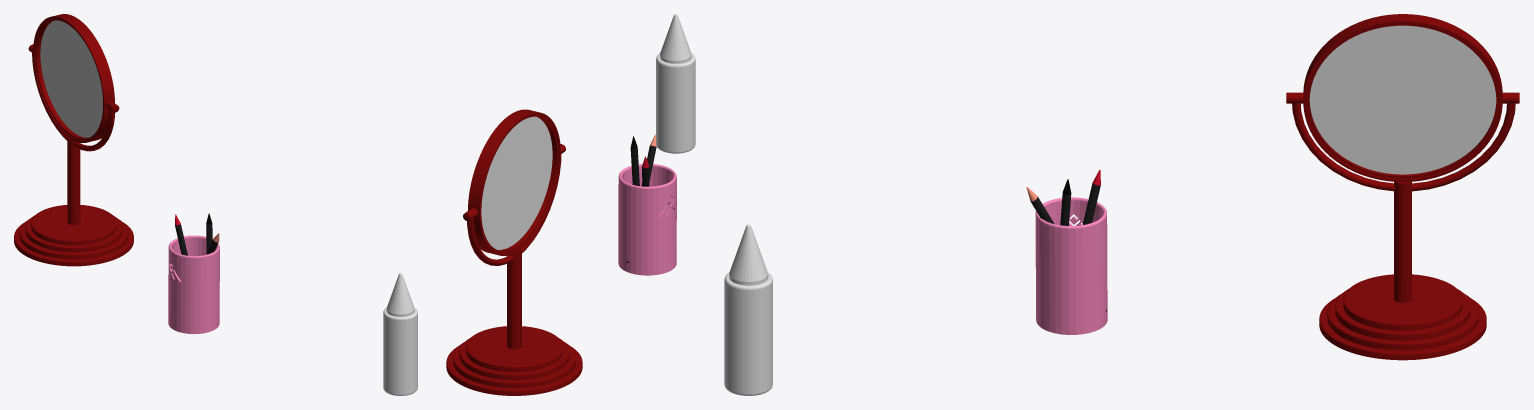
The model's file is ElementMaquillage.glb.
The picture shows the model from 3 angles, left to right: view 1: azimuth 30°, elevation 25°; view 2: azimuth 150°, elevation 25°; view 3: azimuth 270°, elevation 25°; orthographic projection. The views are drawn at different scales.
Parts seen in each view (by area): view 1: MakeUpMirror, makeUpMirrorGlass, tasse, EncreAtatouage, BouchonEncre, Crayon; view 2: MakeUpMirror, makeUpMirrorGlass, tasse, EncreAtatouage, BouchonEncre, Crayon; view 3: makeUpMirrorGlass, MakeUpMirror, tasse, EncreAtatouage, BouchonEncre, Crayon.
Part boxes in pixels (left/top/right/bottom): MakeUpMirror: left=14, top=14, right=133, bottom=266; makeUpMirrorGlass: left=40, top=20, right=102, bottom=137; tasse: left=168, top=235, right=219, bottom=334; EncreAtatouage: left=383, top=307, right=417, bottom=395; BouchonEncre: left=386, top=273, right=414, bottom=314; Crayon: left=175, top=213, right=219, bottom=255; MakeUpMirror: left=446, top=109, right=582, bottom=395; makeUpMirrorGlass: left=481, top=116, right=552, bottom=249; tasse: left=618, top=164, right=676, bottom=275; EncreAtatouage: left=656, top=53, right=695, bottom=153; BouchonEncre: left=660, top=14, right=691, bottom=60; Crayon: left=626, top=134, right=656, bottom=262; makeUpMirrorGlass: left=1309, top=25, right=1496, bottom=174; MakeUpMirror: left=1286, top=14, right=1519, bottom=360; tasse: left=1035, top=197, right=1107, bottom=334; EncreAtatouage: left=724, top=272, right=772, bottom=395; BouchonEncre: left=729, top=224, right=767, bottom=281; Crayon: left=1026, top=169, right=1107, bottom=312.
Size of the model in its own units: 2.32 by 3.07 by 7.19.
